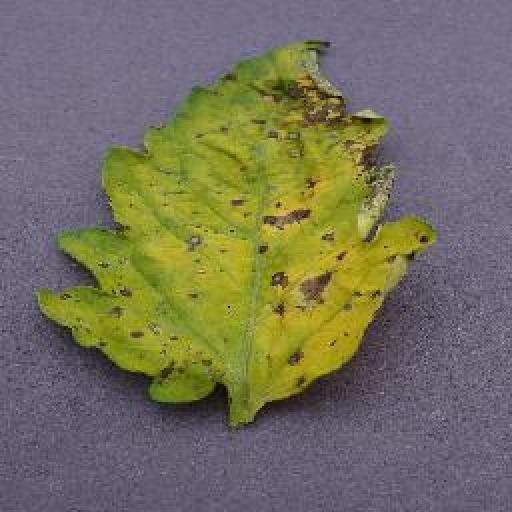disease_tomato: (38, 37, 441, 423)
